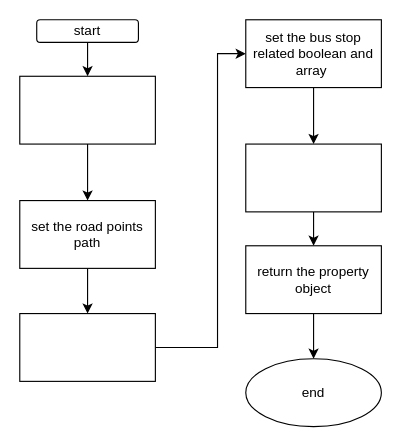
Image size: 401x446. Some labels were removed from this diagram. Each missing label, with the centre of its shape:
"set the attack related the array" belongs at (x=313, y=177).
"set the destination reach related boolean value" belongs at (x=87, y=109).
"set the target of the vehicle" belongs at (x=87, y=346).
